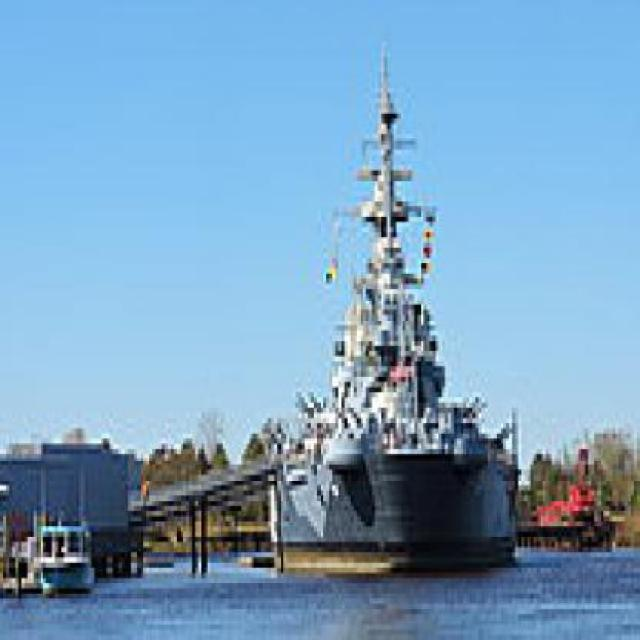warship2: (254, 32, 550, 595)
